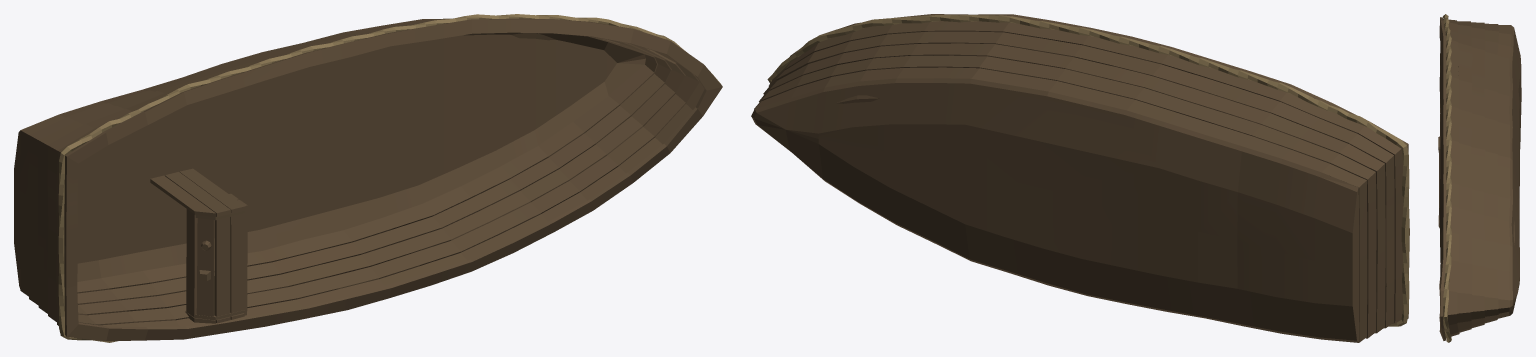
The model's file is Boat2.glb.
3 views of the same model, side by side, from view 1: azimuth 30°, elevation 25°; view 2: azimuth 150°, elevation 25°; view 3: azimuth 270°, elevation 25° (orthographic). The views are drawn at different scales.
Visible parts, largest first — view 1: Boat2; view 2: Boat2; view 3: Boat2.
Boxes of the visible parts, <box> form: Boat2: <box>14,14,722,342</box>; Boat2: <box>751,14,1409,342</box>; Boat2: <box>1438,14,1521,342</box>.
Size of the model in its own units: 8.15 by 3.17 by 1.22.
Materials: 1 (1 with a texture image).
